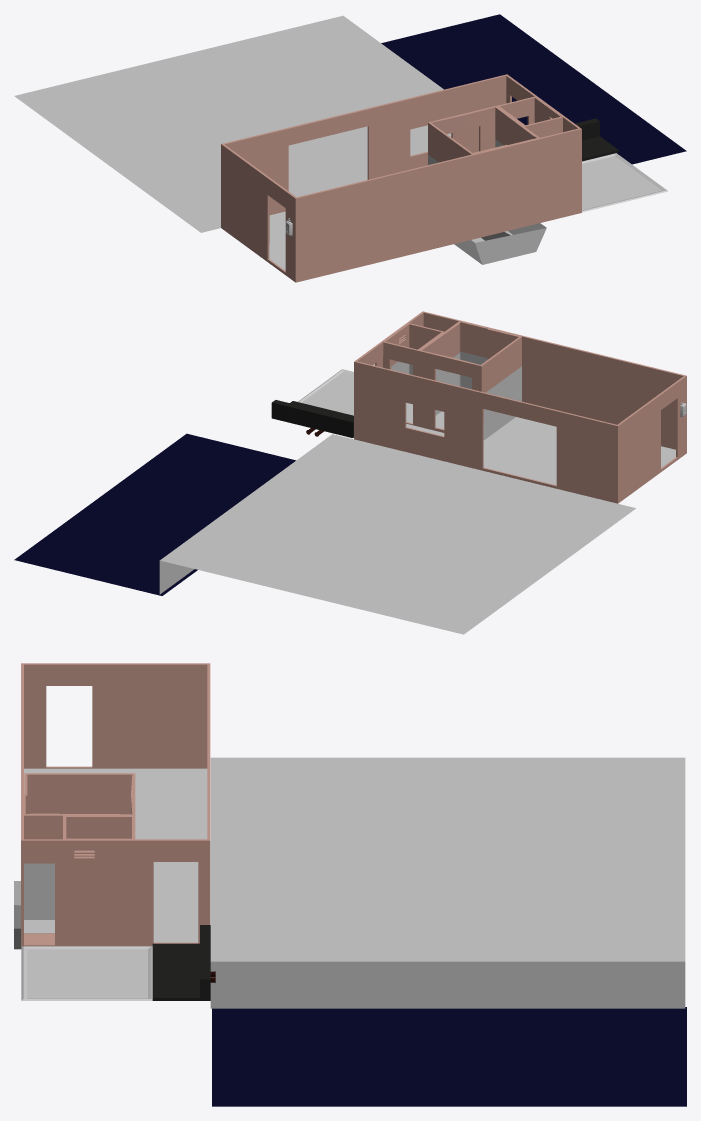
The picture shows the model from 3 angles, top to bottom: view 1: azimuth 30°, elevation 25°; view 2: azimuth 150°, elevation 25°; view 3: azimuth 270°, elevation 25°; orthographic projection. The views are drawn at different scales.
Parts seen in each view (by area): view 1: Plane015, Plane004, Plane017, Plane, Plane024, Plane019, Plane001, Plane016; view 2: Plane015, Plane004, Plane017, Plane, Plane001, Plane016, Plane024; view 3: Plane015, Plane017, Plane004, Plane, Plane024, Plane016, Plane001.
Part boxes in pixels (x1,y1,x2,y2): Plane015: (14,15,451,232); Plane004: (221,74,581,282); Plane017: (381,14,686,164); Plane: (428,106,539,164); Plane024: (582,153,668,212); Plane019: (454,223,546,264); Plane001: (497,96,562,137); Plane016: (575,118,618,161); Plane015: (159,434,635,634); Plane004: (354,311,686,503); Plane017: (14,433,295,595); Plane: (418,321,521,440); Plane001: (383,323,444,426); Plane016: (271,400,353,437); Plane024: (298,369,353,415); Plane015: (210,757,685,1008); Plane017: (212,1007,686,1106); Plane004: (21,663,210,946); Plane: (24,773,135,919); Plane024: (21,946,152,1000); Plane016: (152,925,210,1000); Plane001: (63,815,135,856).
Bounding box in the file's own units: 1580 × 377 × 1491.
